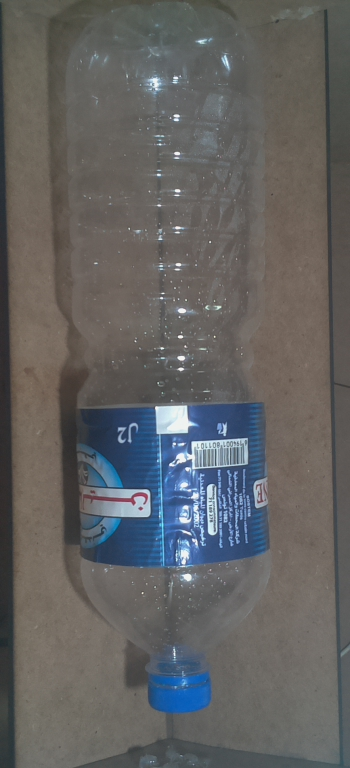Bouteille_2L: (57, 4, 286, 718)
